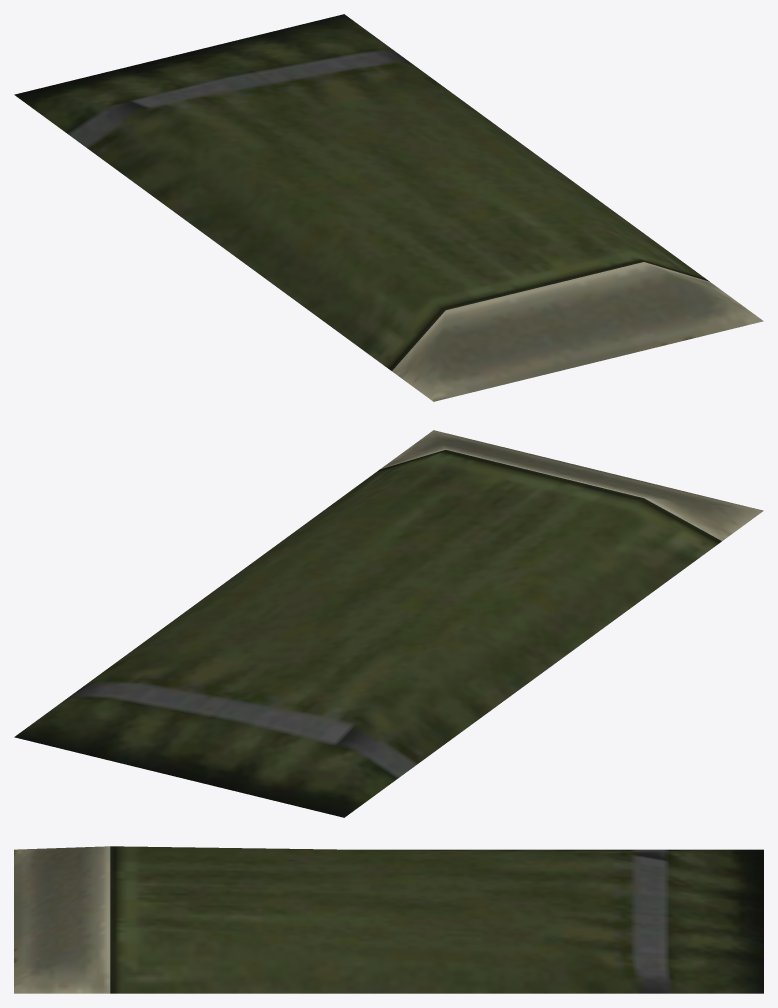
Rendered from Bed_Floor04_Military.glb.
3 renders of one model, top to bottom at view 1: azimuth 30°, elevation 25°; view 2: azimuth 150°, elevation 25°; view 3: azimuth 270°, elevation 25°, orthographic. The views are drawn at different scales.
Visible parts, largest first — view 1: BED_FLOOR04_MILITARY; view 2: BED_FLOOR04_MILITARY; view 3: BED_FLOOR04_MILITARY.
Part boxes in pixels (box(x1,y1,x2,y2)): BED_FLOOR04_MILITARY: box(14, 14, 763, 401); BED_FLOOR04_MILITARY: box(14, 430, 763, 817); BED_FLOOR04_MILITARY: box(14, 846, 763, 993).
Bounding box in the file's own units: 1 × 0.104 × 2.2.
Materials: 1 (1 with a texture image).
